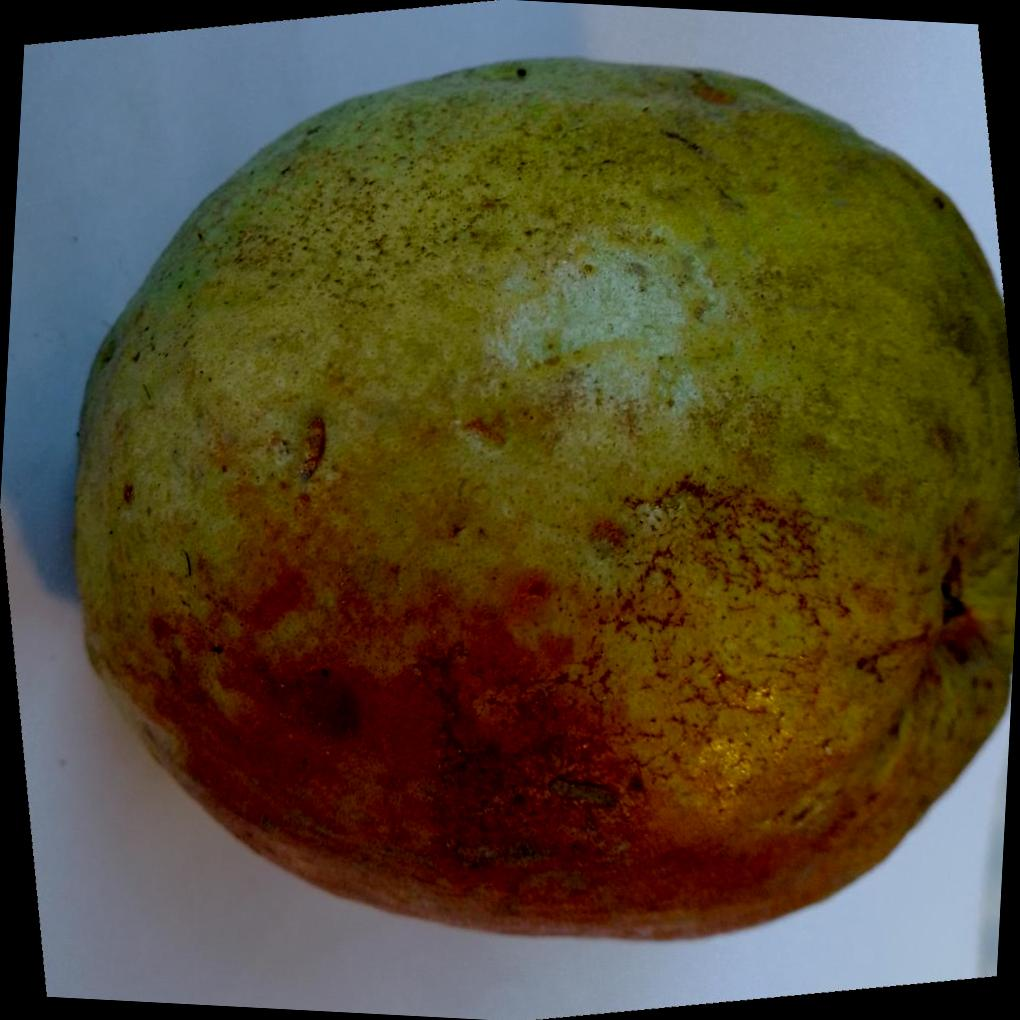FreshOrange: (69, 57, 1020, 946)
